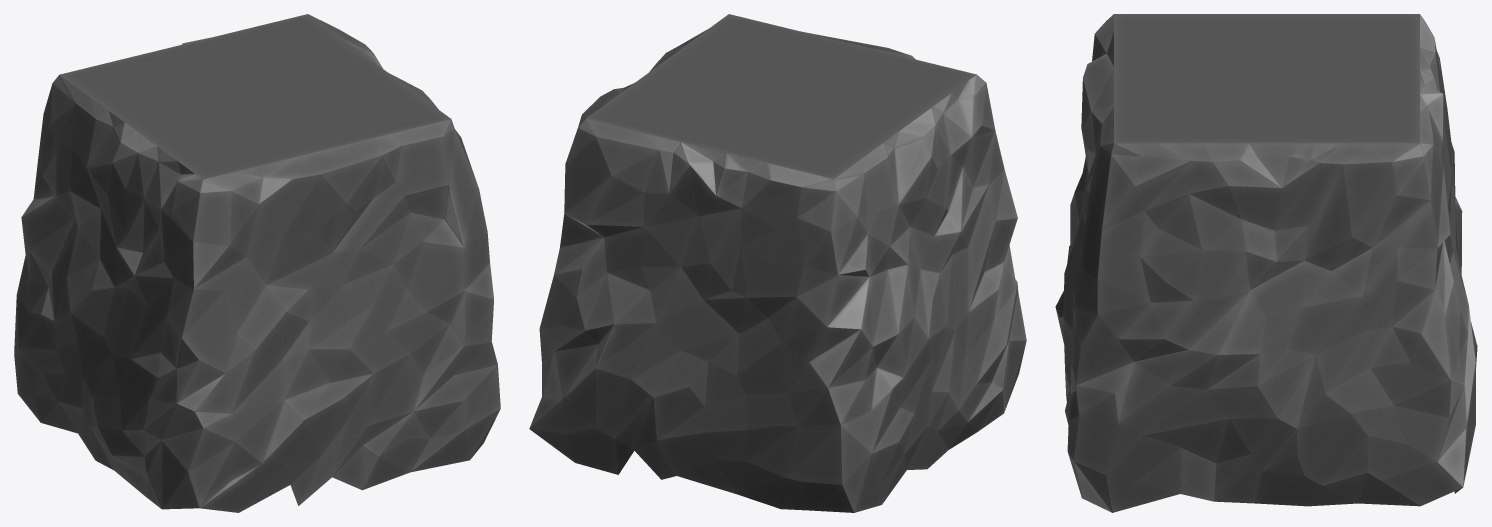
The model's file is MortisPlatform.fbx.
The picture shows the model from 3 angles, left to right: view 1: azimuth 30°, elevation 25°; view 2: azimuth 150°, elevation 25°; view 3: azimuth 270°, elevation 25°; orthographic projection. The views are drawn at different scales.
Visible parts, largest first — view 1: Platform_1; view 2: Platform_1; view 3: Platform_1.
Part boxes in pixels (bbox=[...]): Platform_1: bbox=[14, 14, 500, 512]; Platform_1: bbox=[529, 14, 1026, 512]; Platform_1: bbox=[1055, 14, 1477, 512].
Bounding box in the file's own units: 3894 × 3601 × 3862.
1 material, 1 textured.
